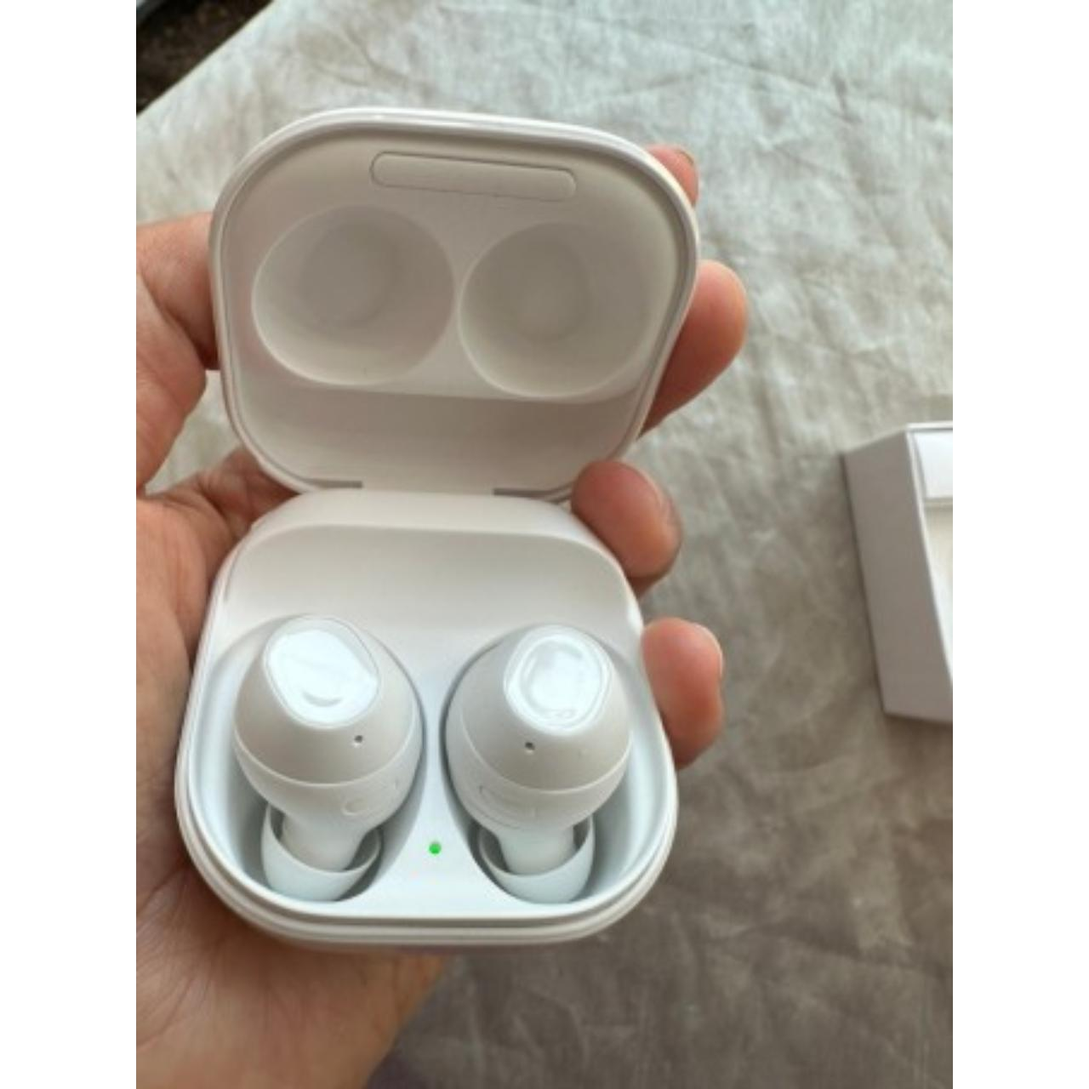Buds: (166, 97, 709, 952)
Buds_Units: (221, 609, 433, 907), (439, 623, 647, 907)
